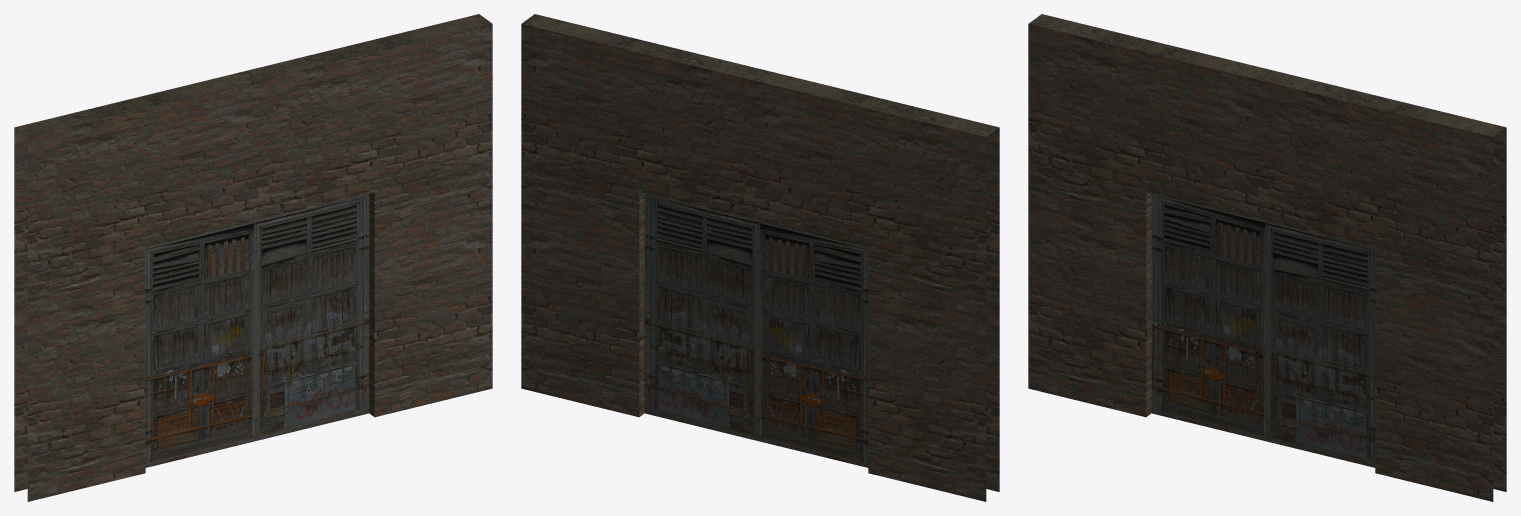
Rendered from garage_door_frame_hr_1.obj.
The picture shows the model from 3 angles, left to right: view 1: azimuth 30°, elevation 25°; view 2: azimuth 150°, elevation 25°; view 3: azimuth 330°, elevation 25°; orthographic projection.
Parts seen in each view (by area): view 1: garage_door_frame_hr_1, garage_door_hr_2_piece_2, garage_door_hr_2_piece_1; view 2: garage_door_frame_hr_1, garage_door_hr_2_piece_2, garage_door_hr_2_piece_1; view 3: garage_door_frame_hr_1, garage_door_hr_2_piece_1, garage_door_hr_2_piece_2.
Boxes of the visible parts, bbox=[...] form: garage_door_frame_hr_1: bbox=[14, 14, 492, 501]; garage_door_hr_2_piece_2: bbox=[255, 194, 369, 441]; garage_door_hr_2_piece_1: bbox=[145, 221, 254, 467]; garage_door_frame_hr_1: bbox=[521, 14, 999, 501]; garage_door_hr_2_piece_2: bbox=[644, 194, 758, 441]; garage_door_hr_2_piece_1: bbox=[759, 221, 868, 467]; garage_door_frame_hr_1: bbox=[1028, 14, 1506, 501]; garage_door_hr_2_piece_1: bbox=[1151, 194, 1265, 441]; garage_door_hr_2_piece_2: bbox=[1266, 221, 1375, 467].
Size of the model in its own units: 8 by 6 by 0.4.
